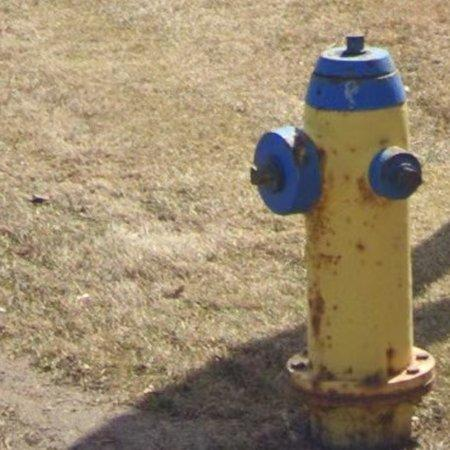a fire hydrant: (252, 35, 436, 449)
